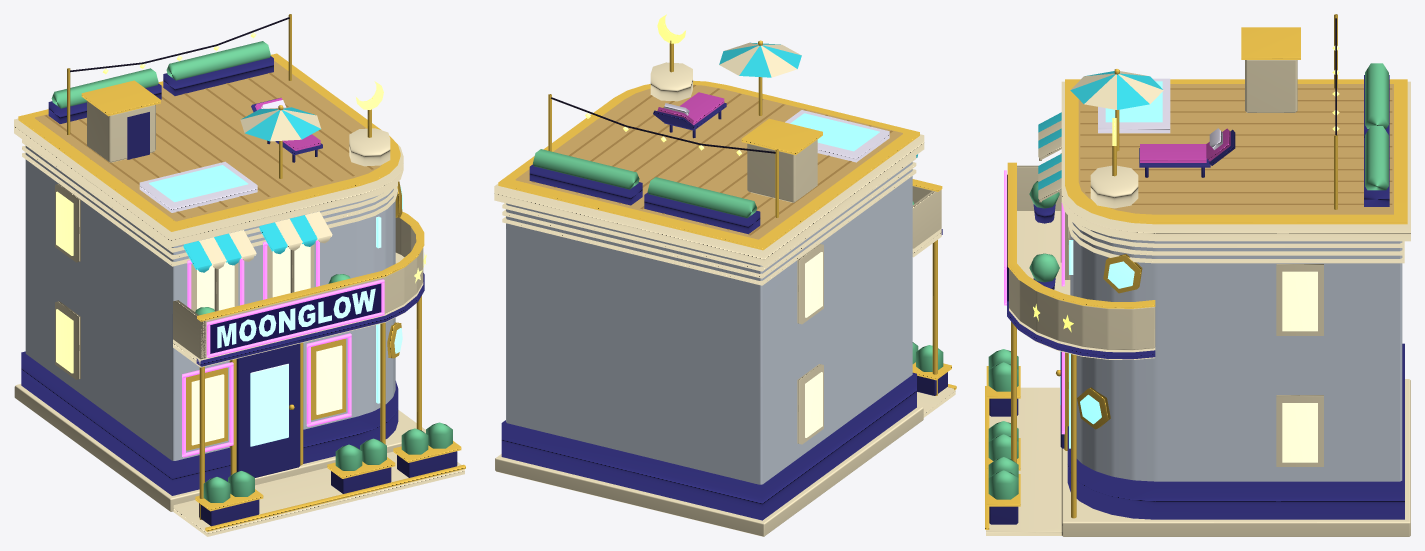
File: apartment_marquee_b.glb
The picture shows the model from 3 angles, left to right: view 1: azimuth 30°, elevation 25°; view 2: azimuth 150°, elevation 25°; view 3: azimuth 270°, elevation 25°; orthographic projection. The views are drawn at different scales.
Parts seen in each view (by area): view 1: Building, Trim, Roof, Balcony, NameSign; view 2: Building, Roof, Trim, Balcony; view 3: Building, Trim, Roof, Balcony.
Boxes of the visible parts, x1,y1,x2,y2 form: Building: [14, 53, 425, 511]; Trim: [55, 181, 465, 536]; Roof: [44, 14, 373, 217]; Balcony: [173, 211, 426, 519]; NameSign: [217, 288, 375, 348]; Building: [494, 14, 924, 536]; Roof: [529, 40, 892, 235]; Trim: [797, 154, 956, 444]; Balcony: [912, 179, 942, 395]; Building: [1061, 79, 1410, 536]; Trim: [985, 112, 1323, 535]; Roof: [1070, 14, 1392, 209]; Balcony: [1004, 162, 1155, 518].
Size of the model in its own units: 4.08 by 5.19 by 5.
